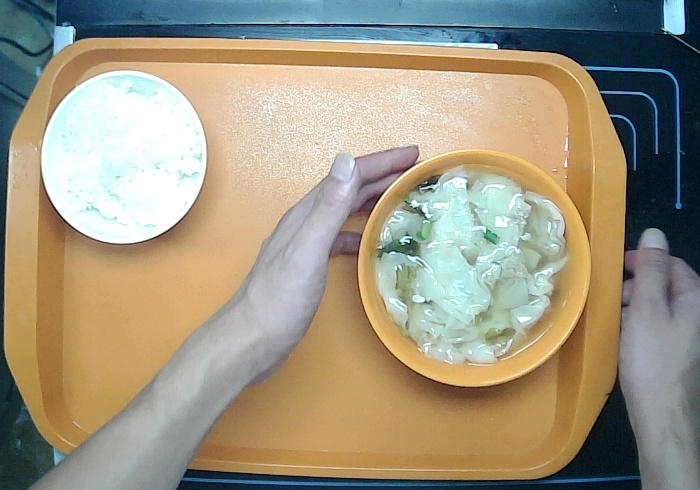NLDX-Fan_Wan: (40, 64, 210, 247)
NLDX-Hun_Tun_Wan: (356, 146, 597, 393)
